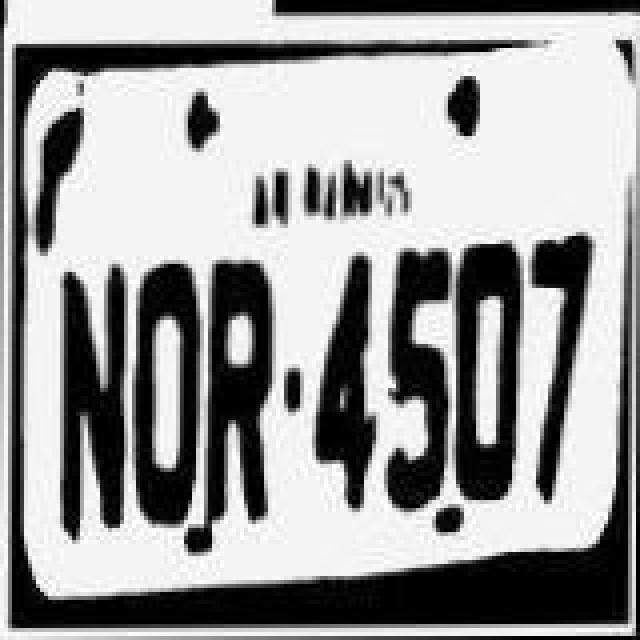4: (314, 242, 386, 522)
5: (384, 238, 460, 510)
7: (526, 216, 606, 504)
N: (54, 260, 134, 548)
O: (450, 212, 522, 504), (128, 254, 204, 530)
R: (206, 254, 286, 526)
